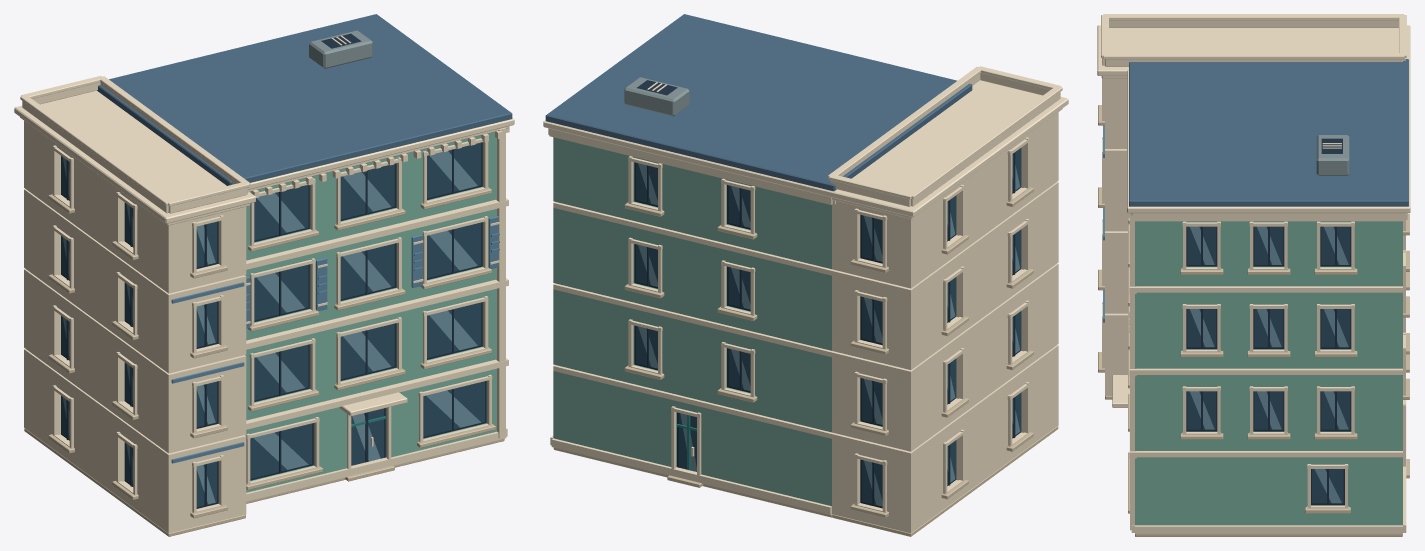
The model's file is offset_core_office.glb.
3 views of the same model, side by side, from view 1: azimuth 30°, elevation 25°; view 2: azimuth 150°, elevation 25°; view 3: azimuth 270°, elevation 25° (orthographic). The views are drawn at different scales.
Visible parts, largest first — view 1: OffsetCoreOffice_StaticMesh; view 2: OffsetCoreOffice_StaticMesh; view 3: OffsetCoreOffice_StaticMesh.
Part boxes in pixels (bbox=[...]): OffsetCoreOffice_StaticMesh: bbox=[14, 14, 514, 536]; OffsetCoreOffice_StaticMesh: bbox=[543, 14, 1068, 536]; OffsetCoreOffice_StaticMesh: bbox=[1097, 14, 1410, 536].
Bounding box in the file's own units: 14.52 × 13.25 × 10.52.
